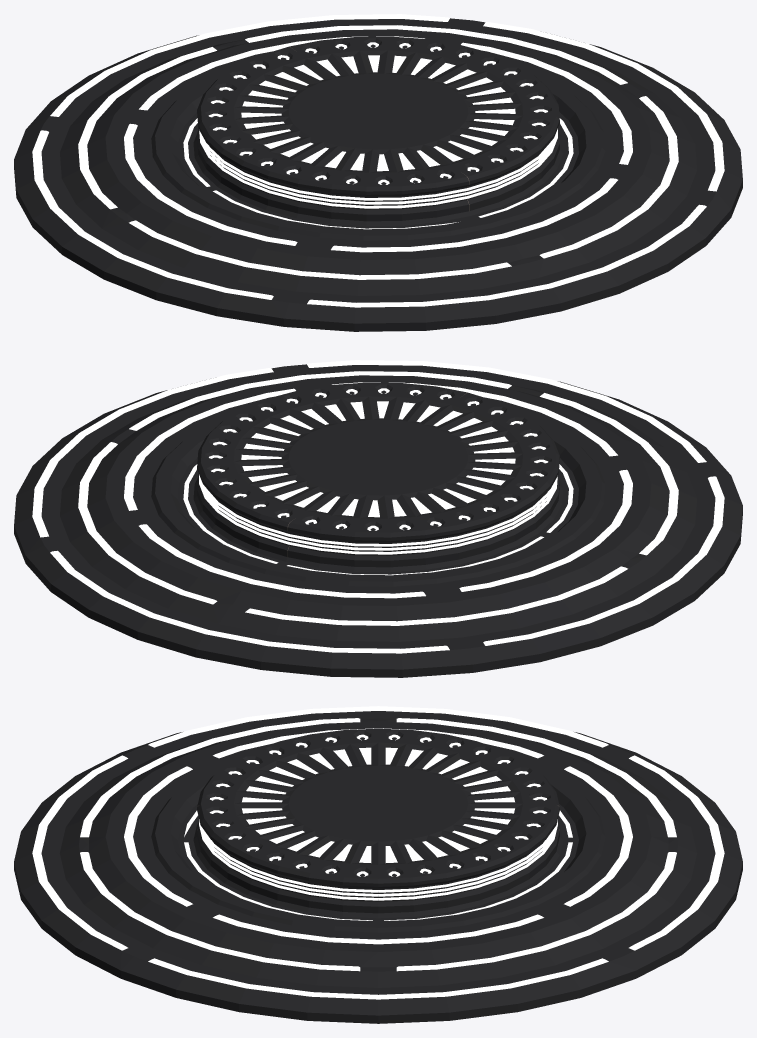
The model's file is showroom-medium-show-room.glb.
The picture shows the model from 3 angles, top to bottom: view 1: azimuth 30°, elevation 25°; view 2: azimuth 150°, elevation 25°; view 3: azimuth 270°, elevation 25°; orthographic projection.
Visible parts, largest first — view 1: MediumShowRoom_Foundation, MediumShowRoom_Body; view 2: MediumShowRoom_Foundation, MediumShowRoom_Body; view 3: MediumShowRoom_Foundation, MediumShowRoom_Body.
Part boxes in pixels (box(x1,y1,x2,y2)): MediumShowRoom_Foundation: box(14, 14, 742, 331); MediumShowRoom_Body: box(197, 36, 559, 221); MediumShowRoom_Foundation: box(14, 360, 742, 677); MediumShowRoom_Body: box(197, 382, 559, 567); MediumShowRoom_Foundation: box(14, 706, 742, 1023); MediumShowRoom_Body: box(197, 728, 559, 913).
Size of the model in its own units: 2000 by 200 by 2000.
Materials: 1 (1 with a texture image).
